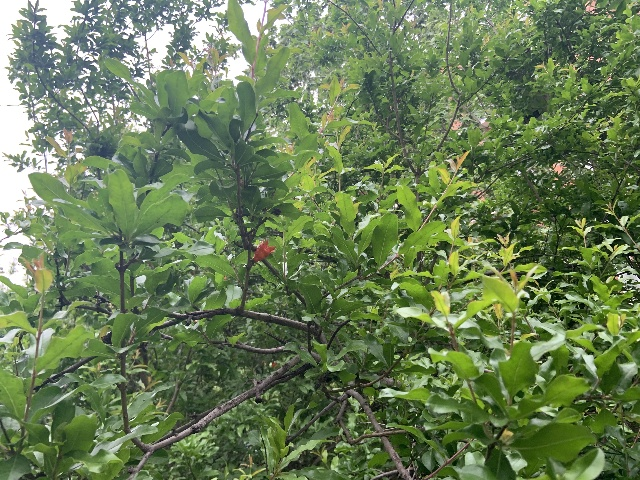flower: (252, 238, 276, 262)
